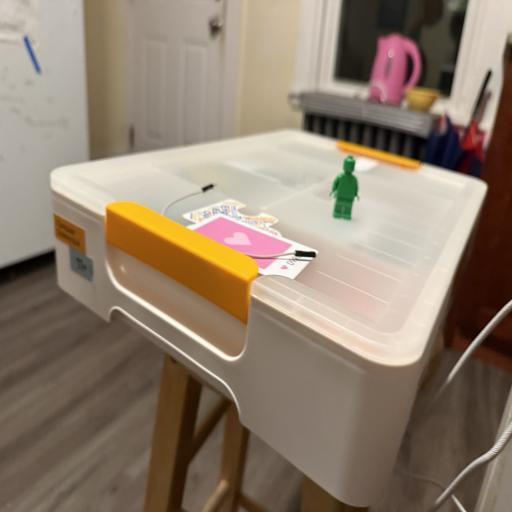Minifig: (331, 156, 358, 219)
